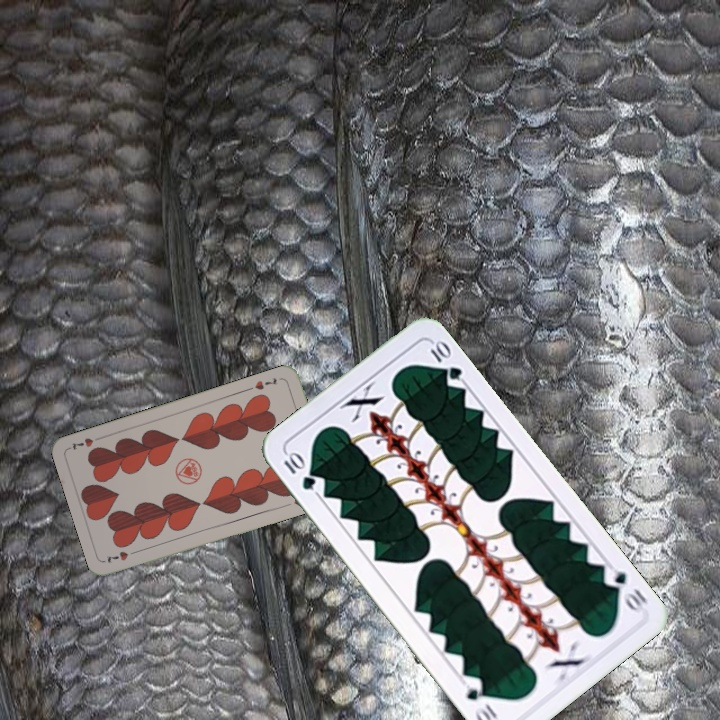G10: (599, 562, 650, 614), (279, 448, 319, 493)
H7: (102, 546, 141, 566), (251, 374, 280, 393)
